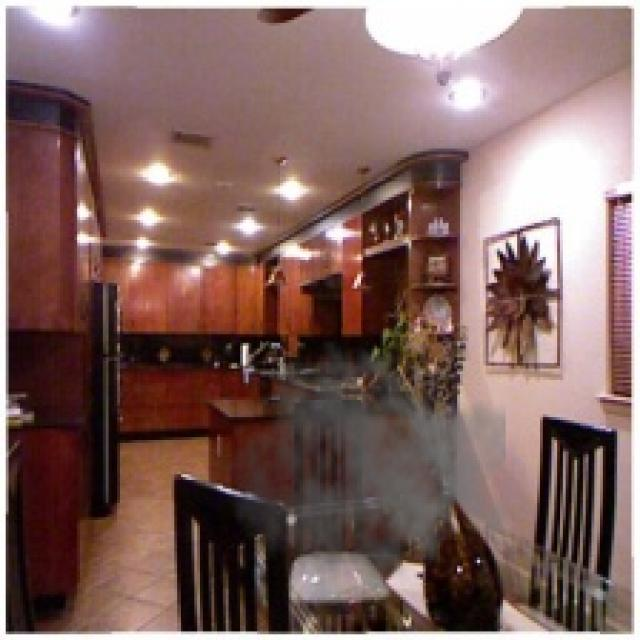Smoke: (228, 337, 506, 609)
